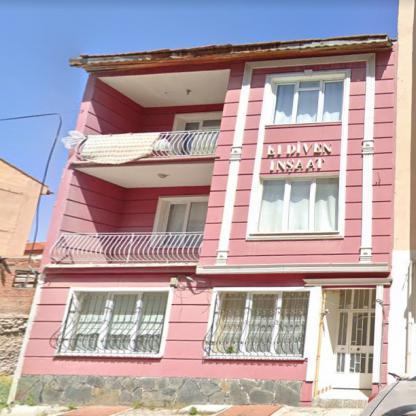door: (333, 311, 374, 389)
window: (62, 290, 168, 353), (210, 292, 309, 356), (255, 175, 338, 234), (269, 78, 344, 124), (163, 199, 207, 231), (341, 290, 374, 309), (182, 118, 220, 130)
